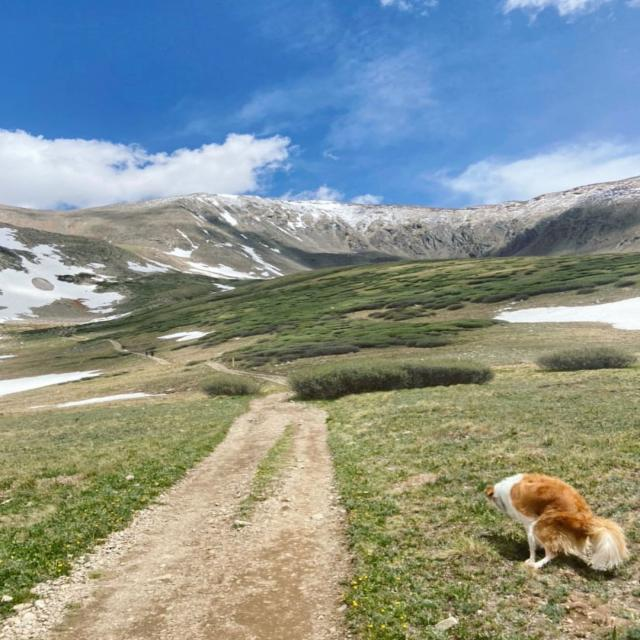squatting: (474, 468, 640, 576)
